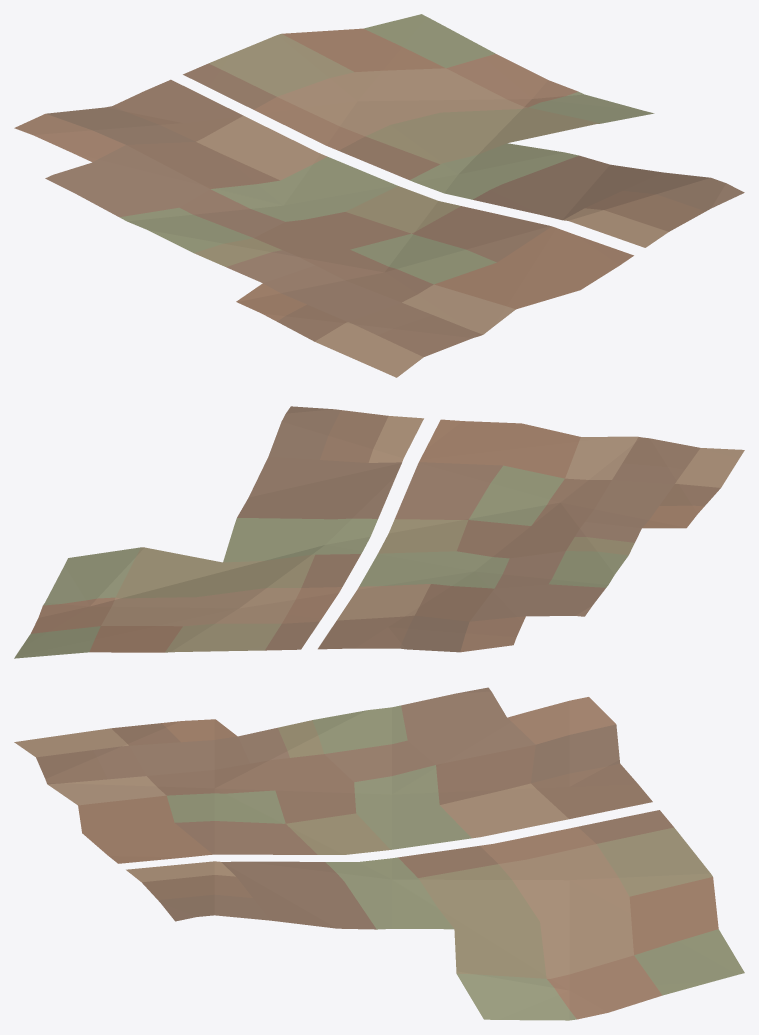
File: farm_-15_-26_soil.glb
3 views of the same model, one above another, from view 1: azimuth 30°, elevation 25°; view 2: azimuth 150°, elevation 25°; view 3: azimuth 270°, elevation 25° (orthographic). The views are drawn at different scales.
Parts seen in each view (by area): view 1: geometry_0; view 2: geometry_0; view 3: geometry_0.
Boxes of the visible parts, box(x1,y1,x2,y2) form: geometry_0: box(14, 14, 744, 377); geometry_0: box(14, 406, 744, 658); geometry_0: box(14, 687, 744, 1020).
Bounding box in the file's own units: 278 × 41.52 × 330.
